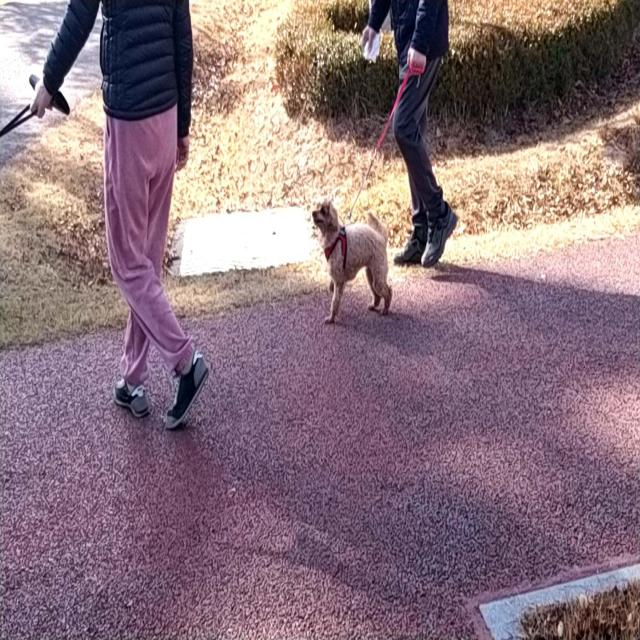Leashed_Dog: (312, 60, 438, 323)
